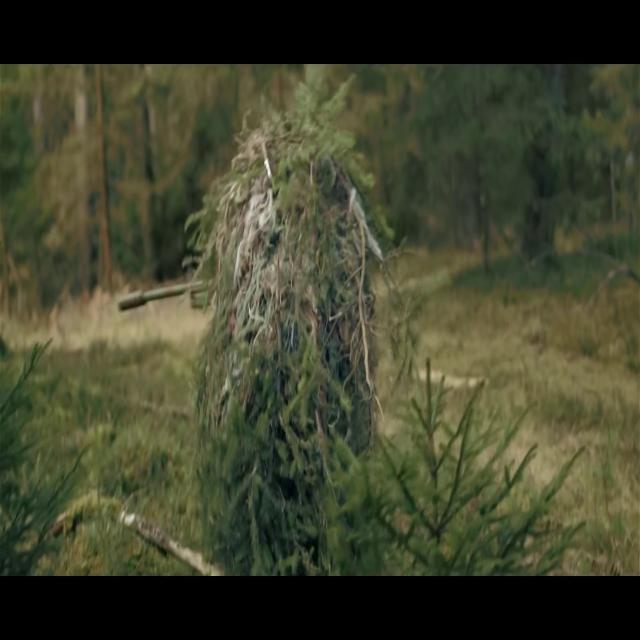Camouflage: (118, 83, 378, 572)
